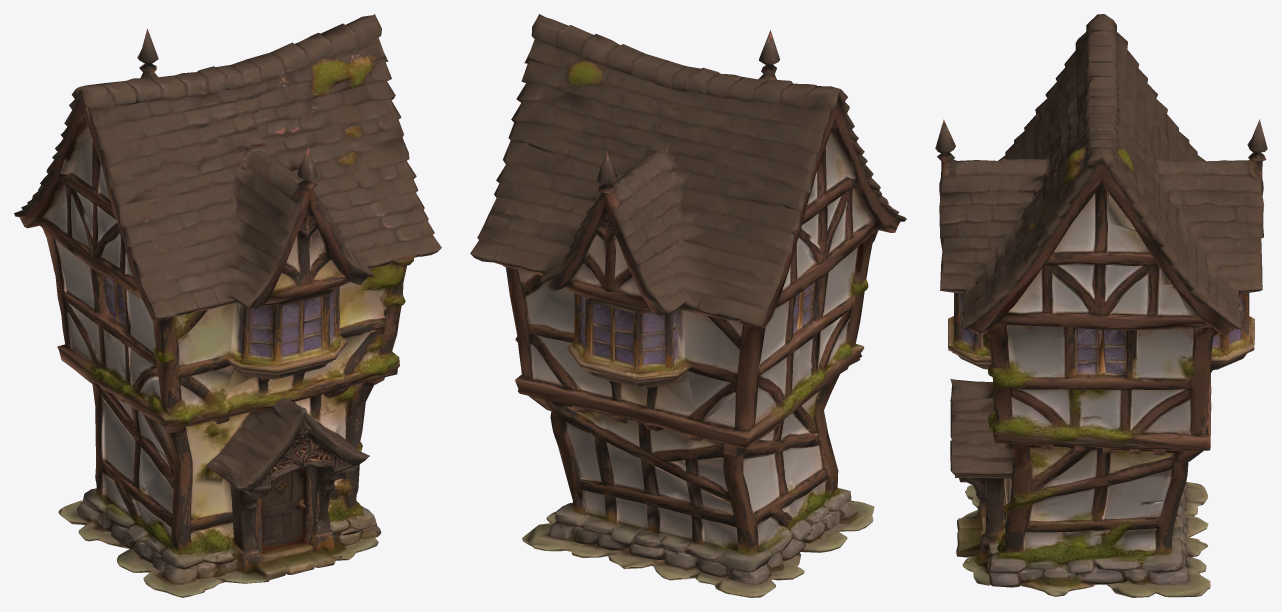
File: town_house_timber_corner_tall.glb
3 views of the same model, side by side, from view 1: azimuth 30°, elevation 25°; view 2: azimuth 150°, elevation 25°; view 3: azimuth 270°, elevation 25° (orthographic). The views are drawn at different scales.
Visible parts, largest first — view 1: tripo_node_ccf50c9f-ccf3-473b-afae-5d0170406ecc; view 2: tripo_node_ccf50c9f-ccf3-473b-afae-5d0170406ecc; view 3: tripo_node_ccf50c9f-ccf3-473b-afae-5d0170406ecc.
Boxes of the visible parts, x1=… form: tripo_node_ccf50c9f-ccf3-473b-afae-5d0170406ecc: x1=14, y1=14, x2=441, y2=597; tripo_node_ccf50c9f-ccf3-473b-afae-5d0170406ecc: x1=470, y1=14, x2=906, y2=597; tripo_node_ccf50c9f-ccf3-473b-afae-5d0170406ecc: x1=935, y1=14, x2=1267, y2=597.
Size of the model in its own units: 7.9 by 12 by 7.84.
Materials: 1 (1 with a texture image).
